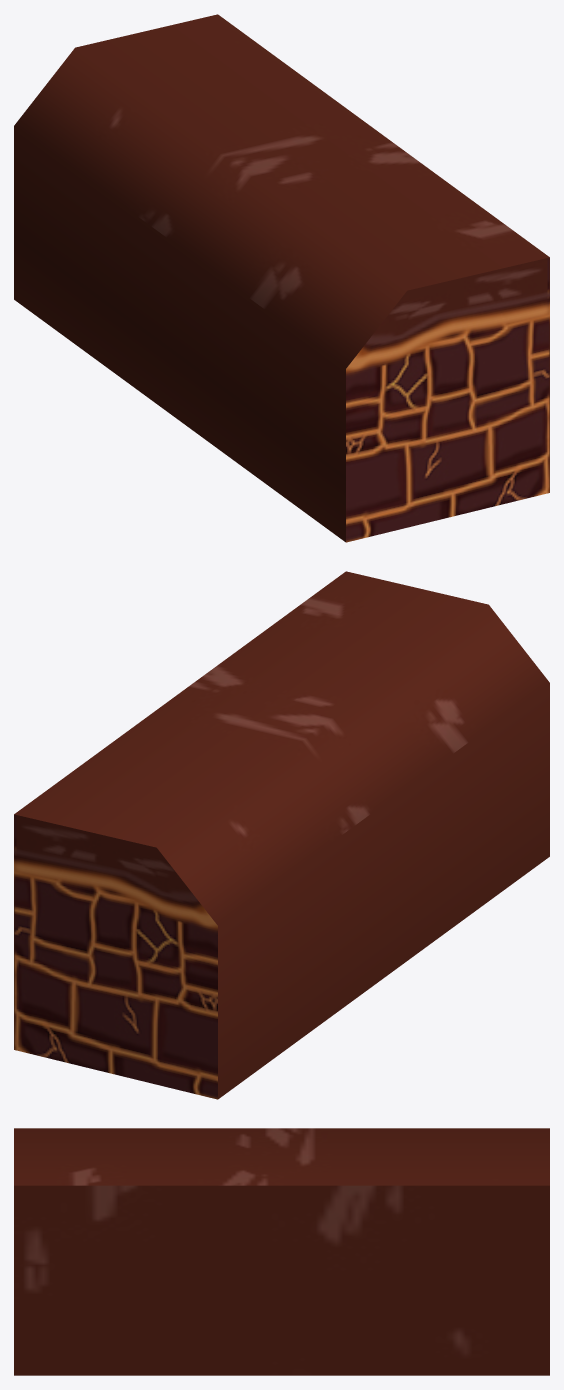
File: Volcano_R_8.fbx
3 views of the same model, one above another, from view 1: azimuth 30°, elevation 25°; view 2: azimuth 150°, elevation 25°; view 3: azimuth 270°, elevation 25° (orthographic). The views are drawn at different scales.
Parts seen in each view (by area): view 1: Volcano_R_8; view 2: Volcano_R_8; view 3: Volcano_R_8.
Boxes of the visible parts, x1,y1,x2,y2 form: Volcano_R_8: [14, 14, 549, 542]; Volcano_R_8: [14, 571, 549, 1099]; Volcano_R_8: [14, 1128, 549, 1375].
Size of the model in its own units: 1.51 by 1.68 by 4.26.
Materials: 1 (1 with a texture image).
